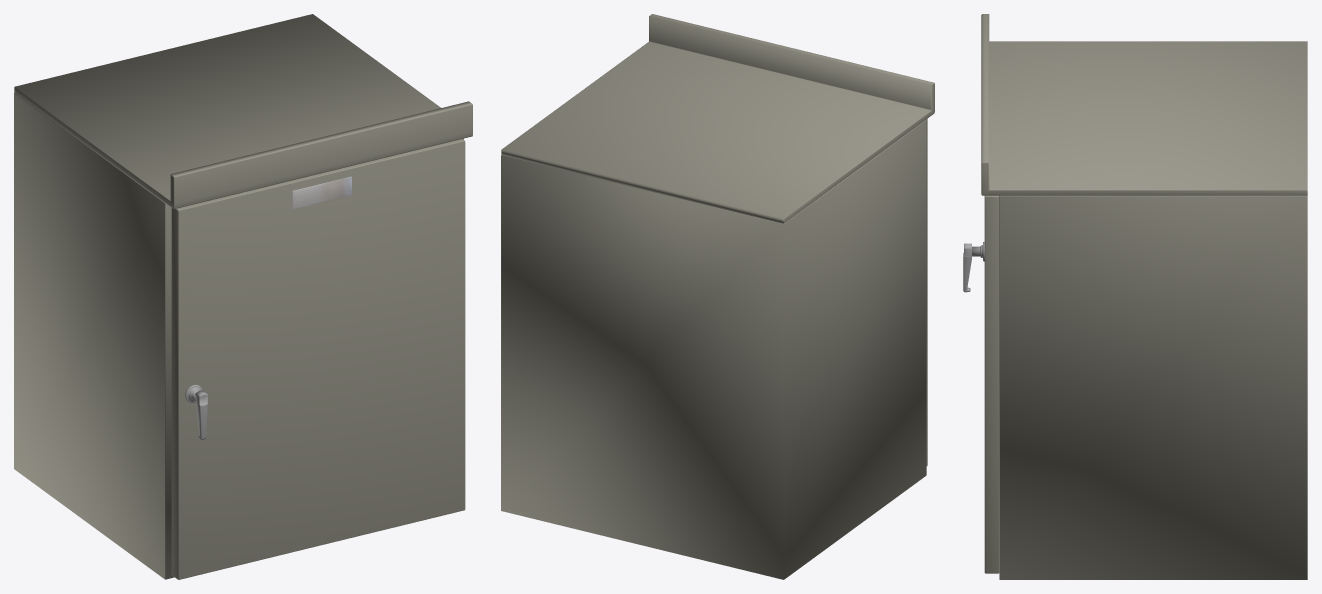
3 views of the same model, side by side, from view 1: azimuth 30°, elevation 25°; view 2: azimuth 150°, elevation 25°; view 3: azimuth 270°, elevation 25° (orthographic). The views are drawn at different scales.
Visible parts, largest first — view 1: u10_body, u10_door_a, u01A_np009, handle055; view 2: u10_body, u10_door_a; view 3: u10_body, u10_door_a, handle055.
Boxes of the visible parts, box(x1,y1,x2,y2) form: u10_body: box(14, 14, 472, 579); u10_door_a: box(171, 139, 465, 579); u01A_np009: box(292, 176, 351, 209); handle055: box(185, 384, 207, 439); u10_body: box(501, 14, 934, 579); u10_door_a: box(926, 119, 927, 465); u10_body: box(981, 14, 1307, 579); u10_door_a: box(984, 195, 999, 573); handle055: box(963, 242, 984, 292).
Size of the model in its own units: 0.96 by 1.26 by 0.9386.
3 materials, 2 textured.
